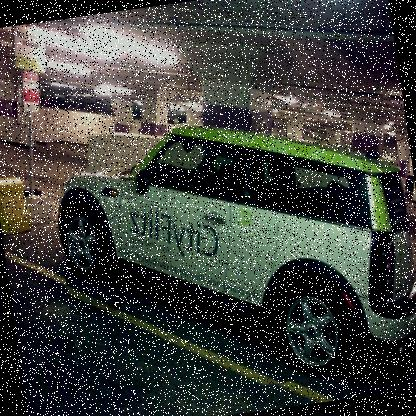Car: (45, 93, 415, 411)
